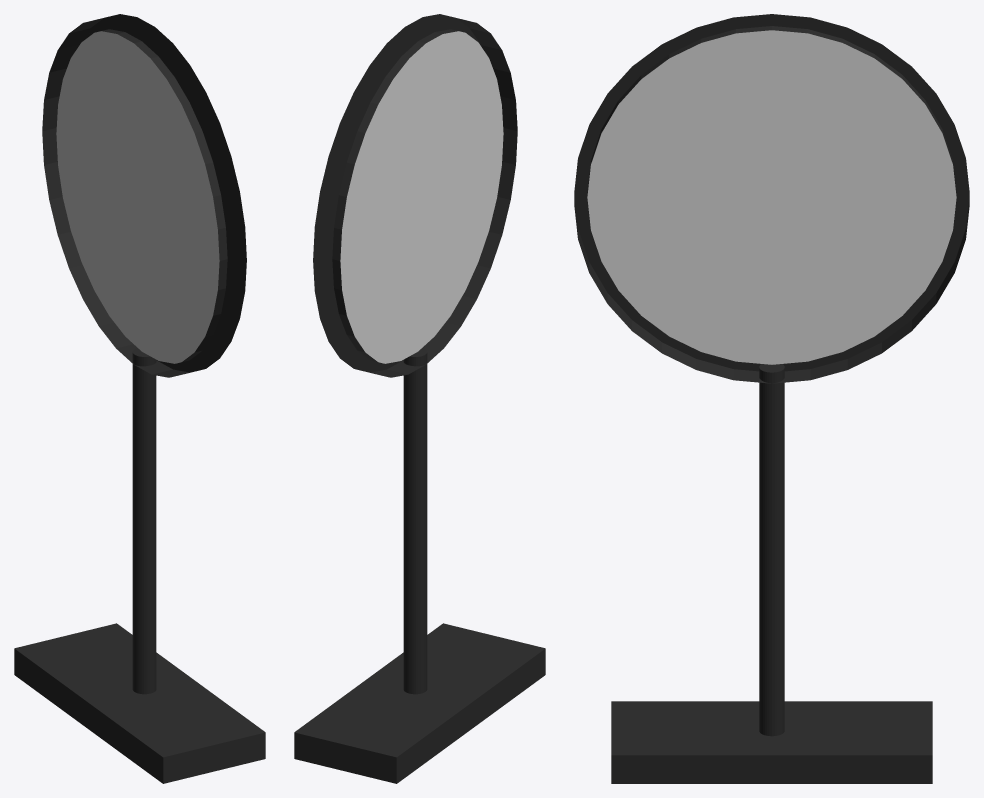
File: Placa.fbx
3 views of the same model, side by side, from view 1: azimuth 30°, elevation 25°; view 2: azimuth 150°, elevation 25°; view 3: azimuth 270°, elevation 25° (orthographic). The views are drawn at different scales.
Visible parts, largest first — view 1: Plane; view 2: Plane; view 3: Plane.
Boxes of the visible parts, x1,y1,x2,y2 form: Plane: (14, 14, 265, 783); Plane: (294, 14, 545, 783); Plane: (574, 14, 969, 783).
Size of the model in its own units: 24.55 by 157 by 76.02.
2 materials, 1 textured.
